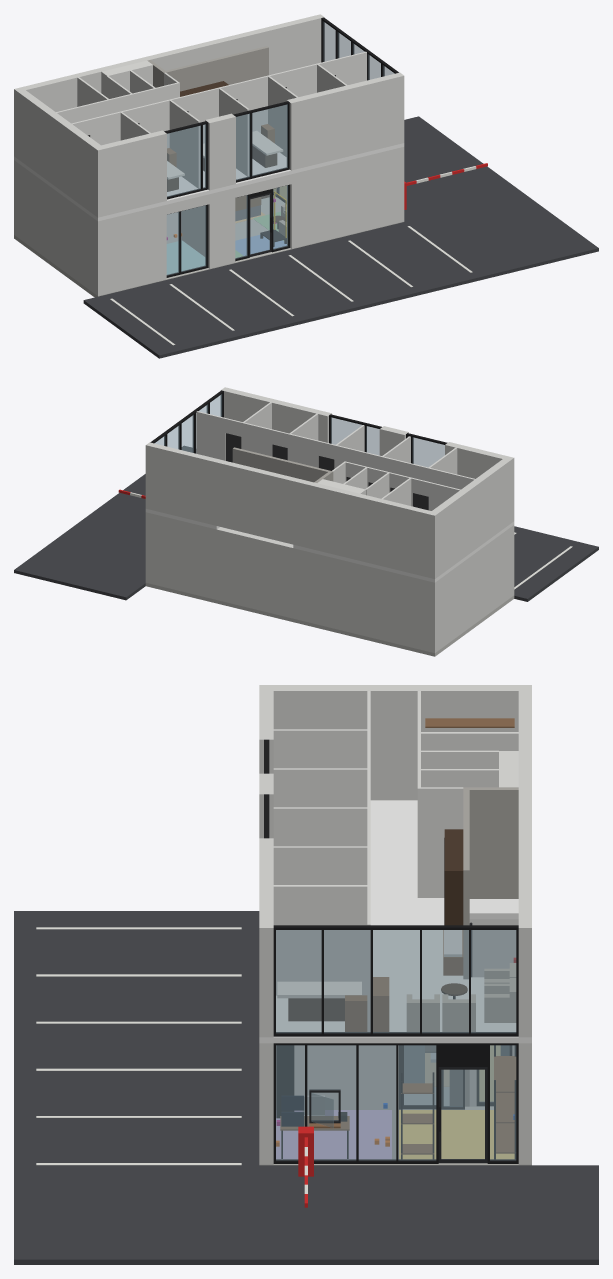
The model's file is BLM_Lobby_v5.dae.
3 views of the same model, one above another, from view 1: azimuth 30°, elevation 25°; view 2: azimuth 150°, elevation 25°; view 3: azimuth 270°, elevation 25° (orthographic). The views are drawn at different scales.
Parts seen in each view (by area): view 1: wall_dark, asphalt, wall, glass, steel, wall_grey, slab, floor, line, z_staff, wood_dark, board (+2 smaller); view 2: wall_dark, asphalt, wall, glass, wall_grey, floor, steel, slab, door; view 3: asphalt, glass, wall, wall_dark, slab, steel, wall_grey, wood, z_lug, wood_dark, chair, z_office (+8 smaller).
Boxes of the visible parts, left/top/right/bottom form: wall_dark: left=14, top=14, right=404, bottom=295; asphalt: left=83, top=116, right=598, bottom=358; wall: left=56, top=51, right=366, bottom=256; glass: left=166, top=21, right=394, bottom=275; steel: left=164, top=17, right=398, bottom=277; wall_grey: left=147, top=46, right=268, bottom=91; slab: left=14, top=143, right=404, bottom=221; floor: left=14, top=195, right=404, bottom=297; line: left=110, top=166, right=476, bottom=345; z_staff: left=166, top=240, right=205, bottom=274; wood_dark: left=167, top=81, right=285, bottom=222; board: left=167, top=131, right=283, bottom=179; wall_dark: left=145, top=387, right=514, bottom=652; asphalt: left=14, top=445, right=598, bottom=601; wall: left=196, top=402, right=474, bottom=510; glass: left=154, top=394, right=444, bottom=467; wall_grey: left=232, top=447, right=333, bottom=482; floor: left=145, top=583, right=514, bottom=656; steel: left=150, top=390, right=447, bottom=463; slab: left=145, top=509, right=514, bottom=582; door: left=226, top=433, right=428, bottom=510; asphalt: left=14, top=911, right=598, bottom=1264; glass: left=276, top=930, right=516, bottom=1160; wall: left=273, top=691, right=518, bottom=1159; wall_dark: left=259, top=685, right=531, bottom=1164; slab: left=259, top=800, right=531, bottom=1043; steel: left=264, top=739, right=518, bottom=1163; wall_grey: left=463, top=787, right=518, bottom=1106; wood: left=280, top=718, right=516, bottom=1154; z_lug: left=399, top=1045, right=514, bottom=1159; wood_dark: left=288, top=829, right=467, bottom=1105; chair: left=406, top=963, right=516, bottom=1031; z_office: left=276, top=1110, right=391, bottom=1159.
Bounding box in the file's own units: 18480 × 13110 × 6000.
